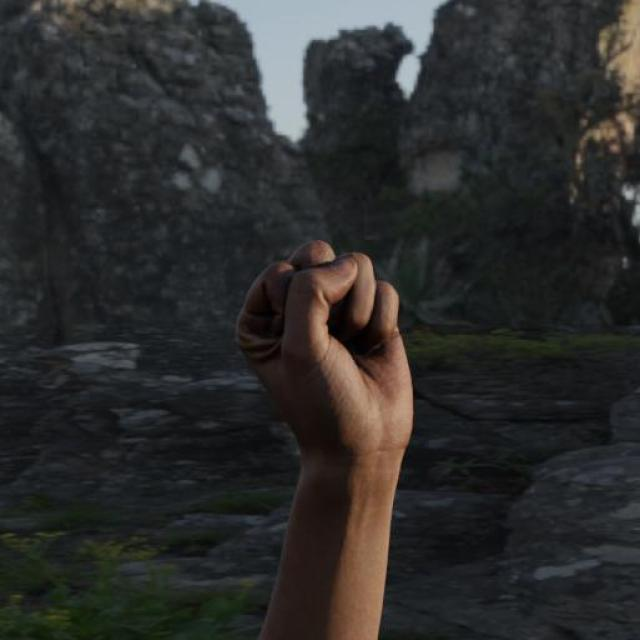S: (235, 236, 422, 457)
